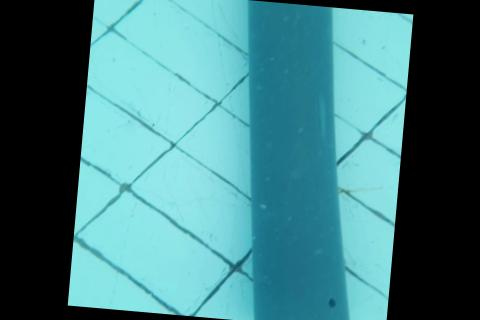kebocoran: (326, 297, 336, 309)
